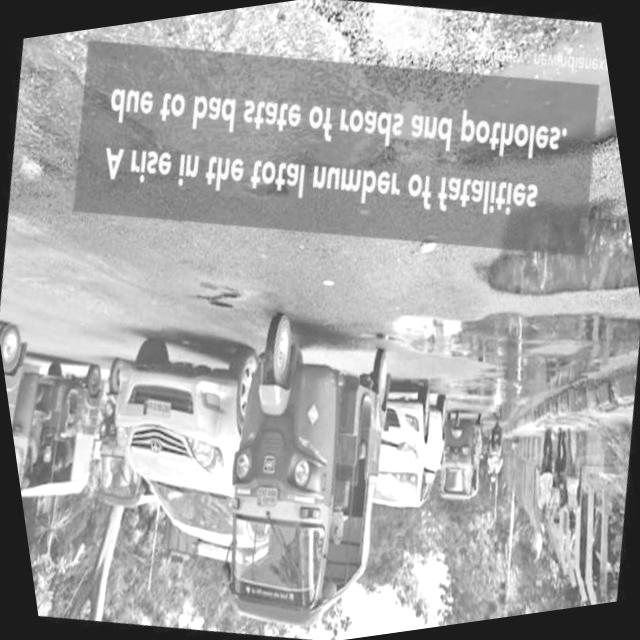Pathole: (449, 22, 618, 160), (491, 197, 637, 289), (196, 278, 243, 306)
